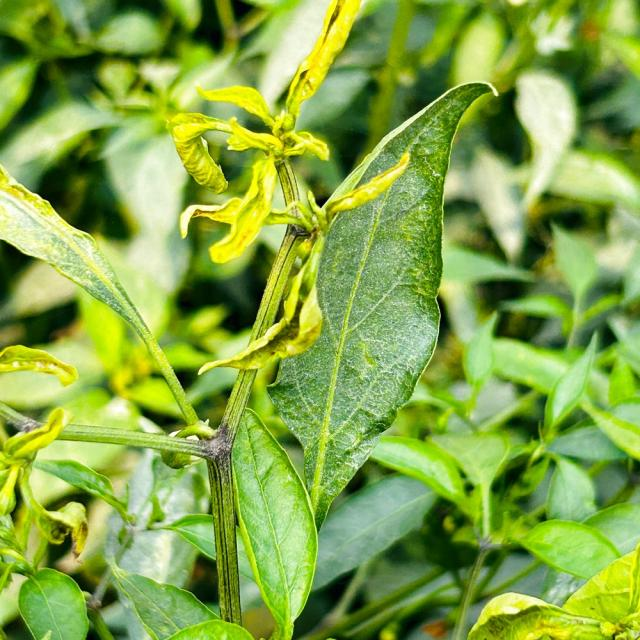Chilli_Leaf_Curl: (1, 1, 502, 638), (263, 79, 499, 532), (165, 0, 370, 376), (0, 163, 213, 439), (228, 406, 320, 638), (466, 541, 639, 639), (16, 566, 90, 639)
